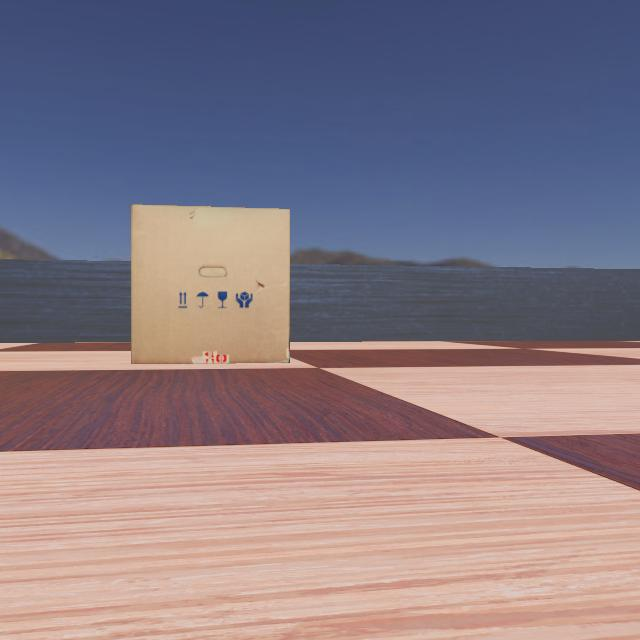cardboard-box: (102, 203, 296, 364)
